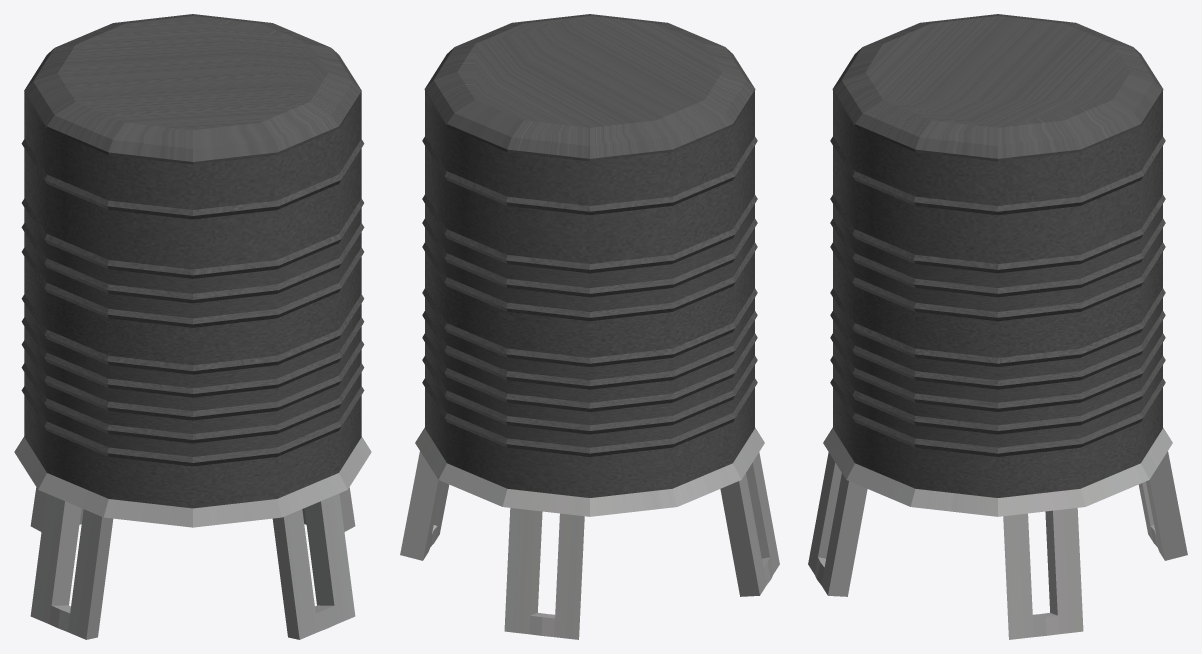
The model's file is roofres.fbx.
3 renders of one model, left to right at view 1: azimuth 30°, elevation 25°; view 2: azimuth 150°, elevation 25°; view 3: azimuth 270°, elevation 25°, orthographic. The views are drawn at different scales.
Visible parts, largest first — view 1: Cylinder001; view 2: Cylinder001; view 3: Cylinder001.
Boxes of the visible parts, left/top/right/bottom form: Cylinder001: left=14, top=14, right=371, bottom=639; Cylinder001: left=400, top=14, right=779, bottom=639; Cylinder001: left=808, top=14, right=1187, bottom=639.
Bounding box in the file's own units: 78.77 × 113 × 78.77.
2 materials, 2 textured.
